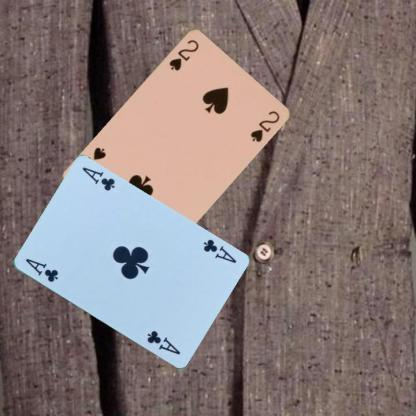2s: (166, 36, 200, 72)
Ac: (199, 236, 237, 265), (22, 256, 60, 284)
